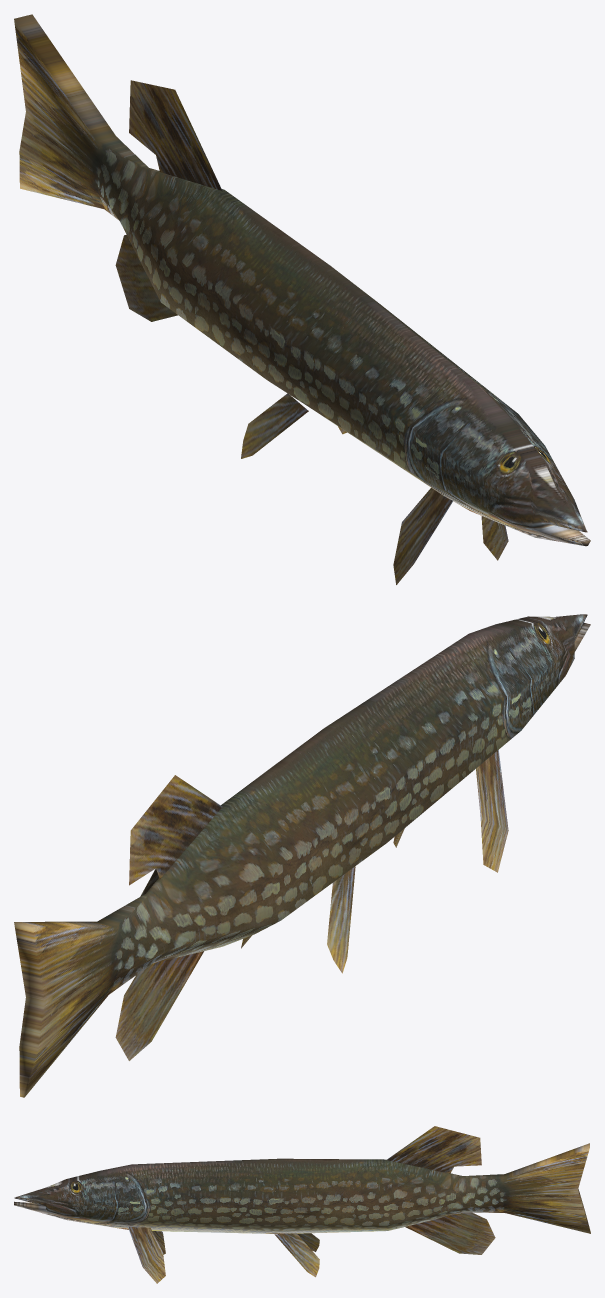
Rendered from Shuka.glb.
3 views of the same model, one above another, from view 1: azimuth 30°, elevation 25°; view 2: azimuth 150°, elevation 25°; view 3: azimuth 270°, elevation 25° (orthographic). The views are drawn at different scales.
Parts seen in each view (by area): view 1: Cube; view 2: Cube; view 3: Cube.
Part boxes in pixels (<box>): Cube: <box>14,14,590,584</box>; Cube: <box>14,614,590,1097</box>; Cube: <box>14,1126,590,1283</box>.
Size of the model in its own units: 0.1495 by 0.3388 by 1.22.
2 materials, 2 textured.
